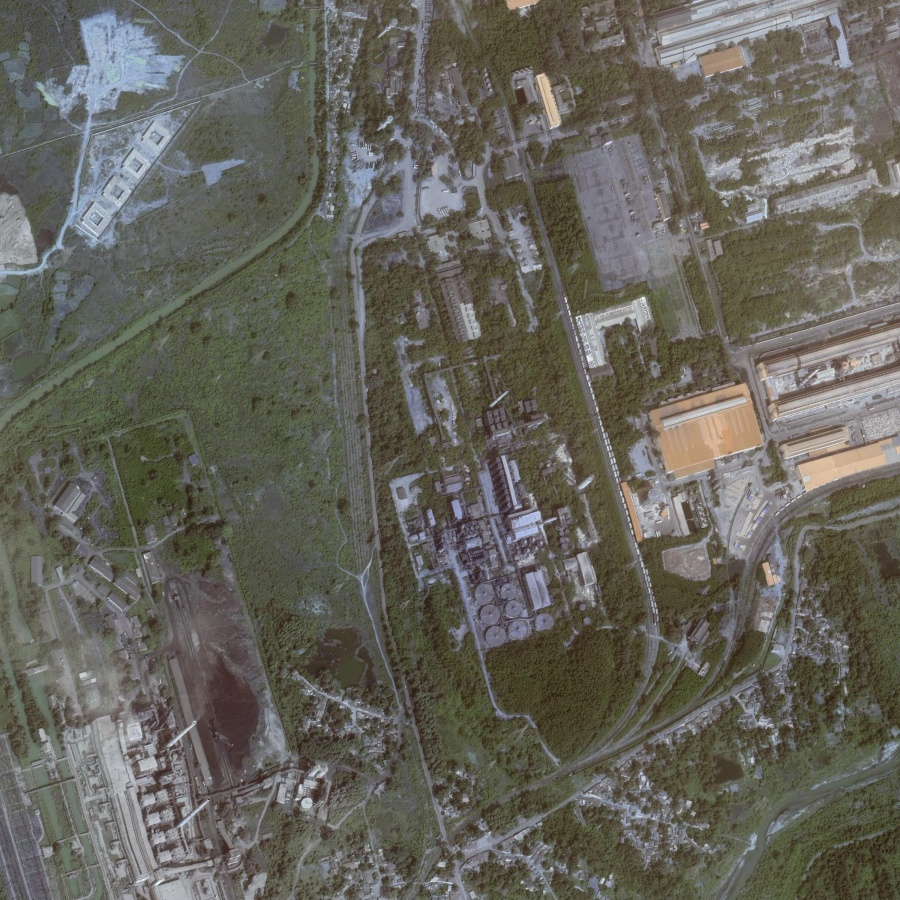PowerPlant: (72, 565, 269, 862)
